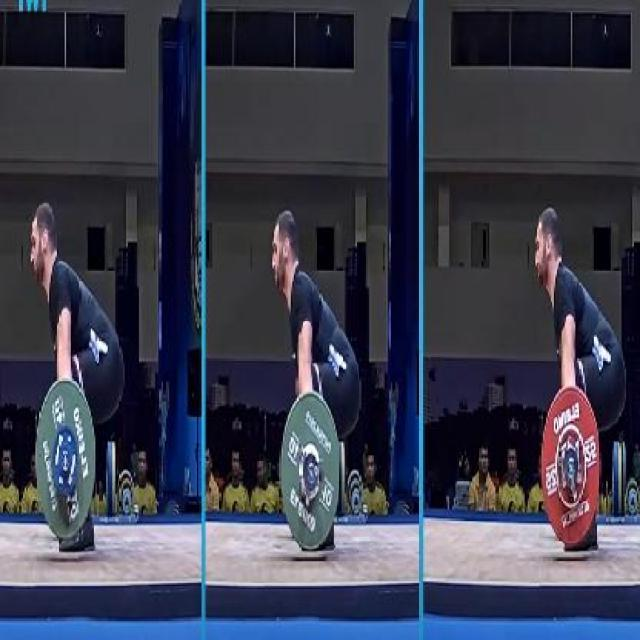Barbell: (59, 447, 72, 478), (306, 458, 316, 488), (566, 455, 576, 480)
